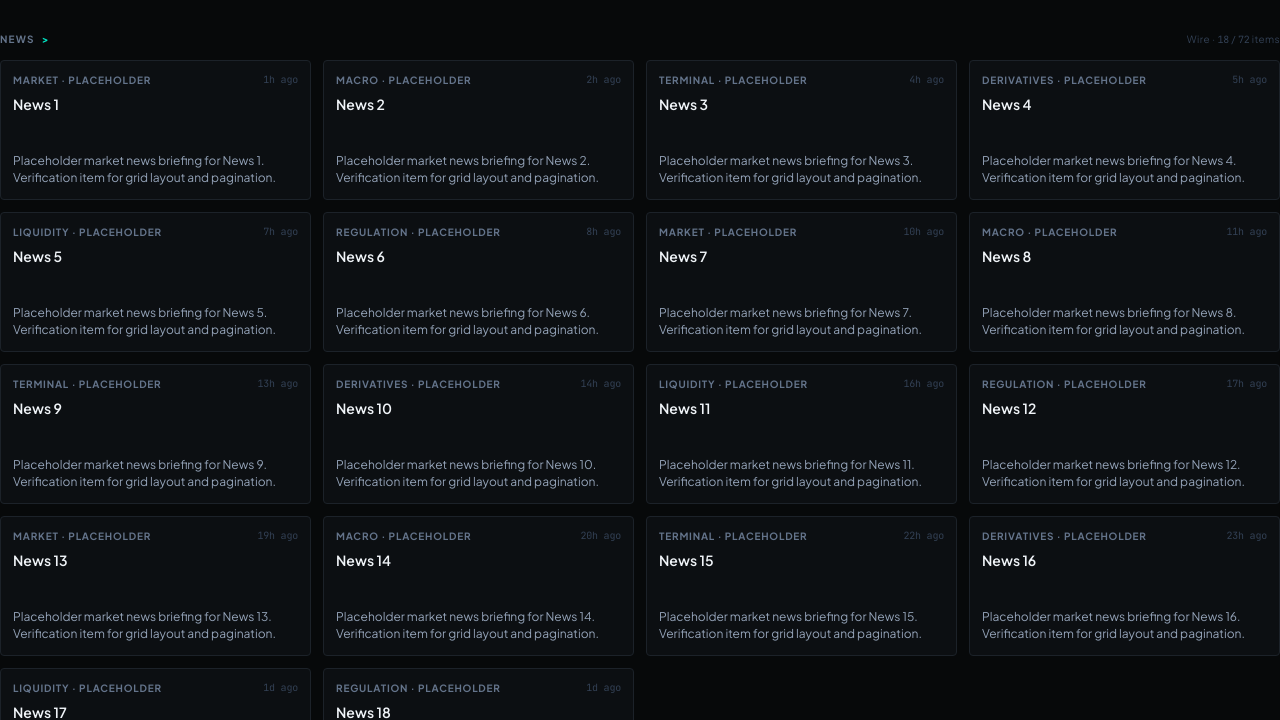
Test: Trading Terminal Feature Expansion Tests › News Section & Grid › News items are clickable and open NewsModal
Click the 1st button with class "news-card": click(82, 80) [0,60,311,200]
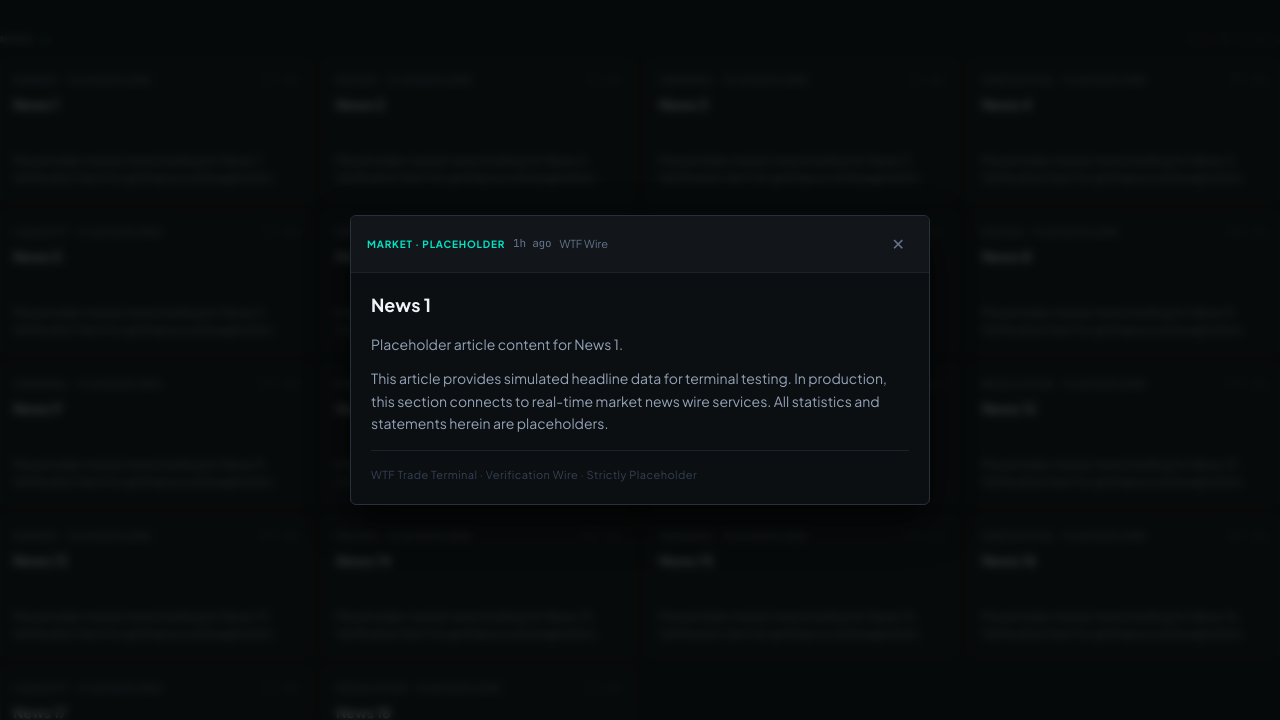
Check: the dialog with class "news-modal" is shown, box [350,215,930,505]
Click the button with class "news-modal__close": click(898, 244) [884,228,913,260]
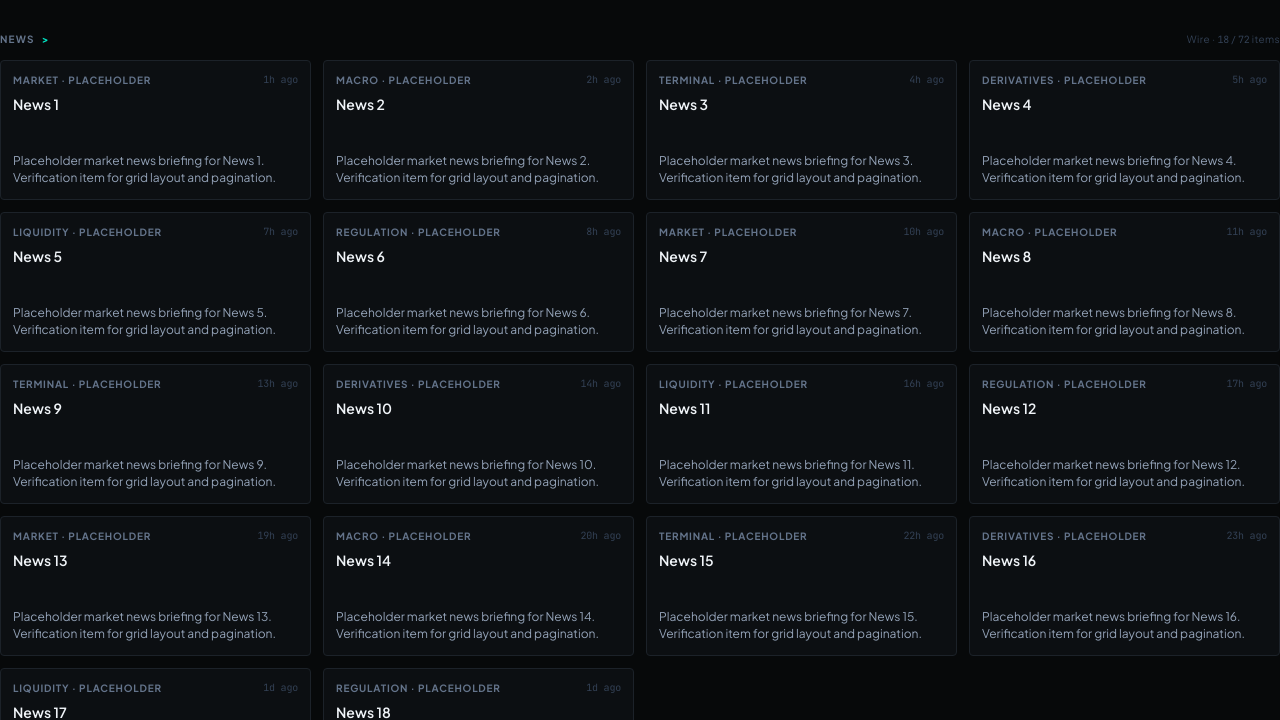
Check: the dialog with class "news-modal" is gone
